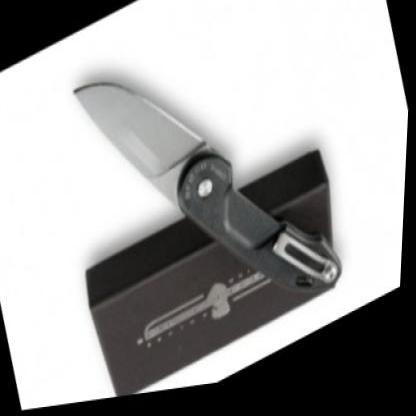knife: (65, 15, 250, 264)
